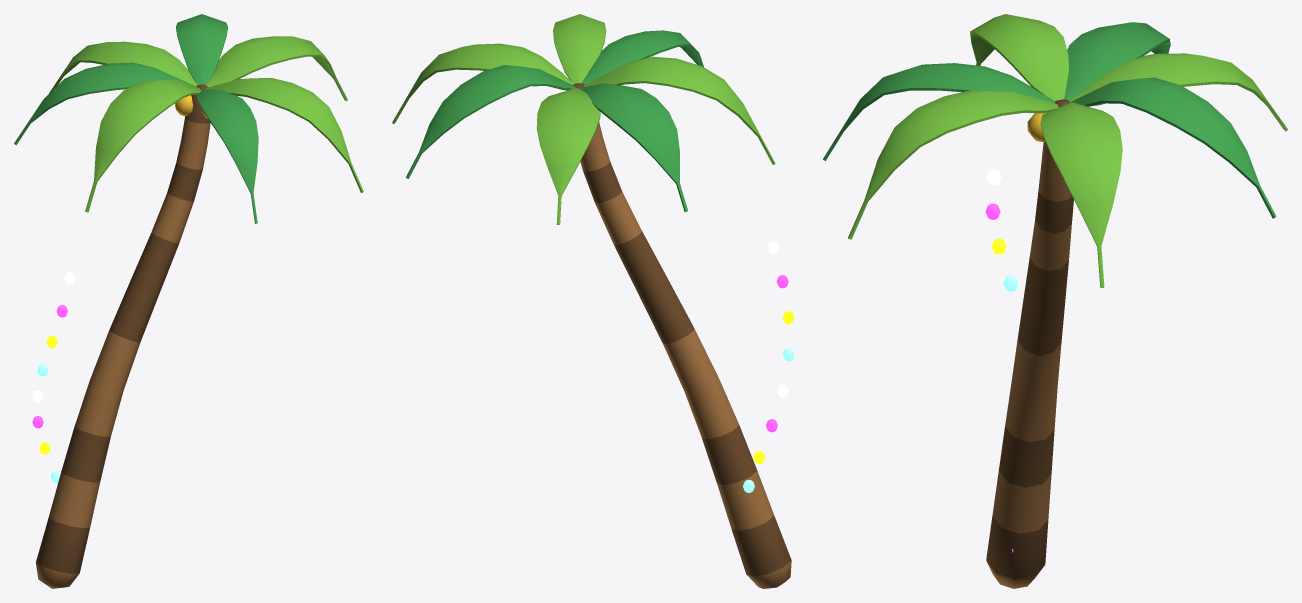
Rendered from W6_Palm_A.fbx.
3 views of the same model, side by side, from view 1: azimuth 30°, elevation 25°; view 2: azimuth 150°, elevation 25°; view 3: azimuth 270°, elevation 25° (orthographic). The views are drawn at different scales.
Visible parts, largest first — view 1: W6_Palm_A; view 2: W6_Palm_A; view 3: W6_Palm_A.
Part boxes in pixels (x1,y1,x2,y2): W6_Palm_A: (14, 14, 363, 588); W6_Palm_A: (392, 14, 794, 588); W6_Palm_A: (823, 14, 1287, 588).
Bounding box in the file's own units: 5.52 × 7.35 × 4.93.
